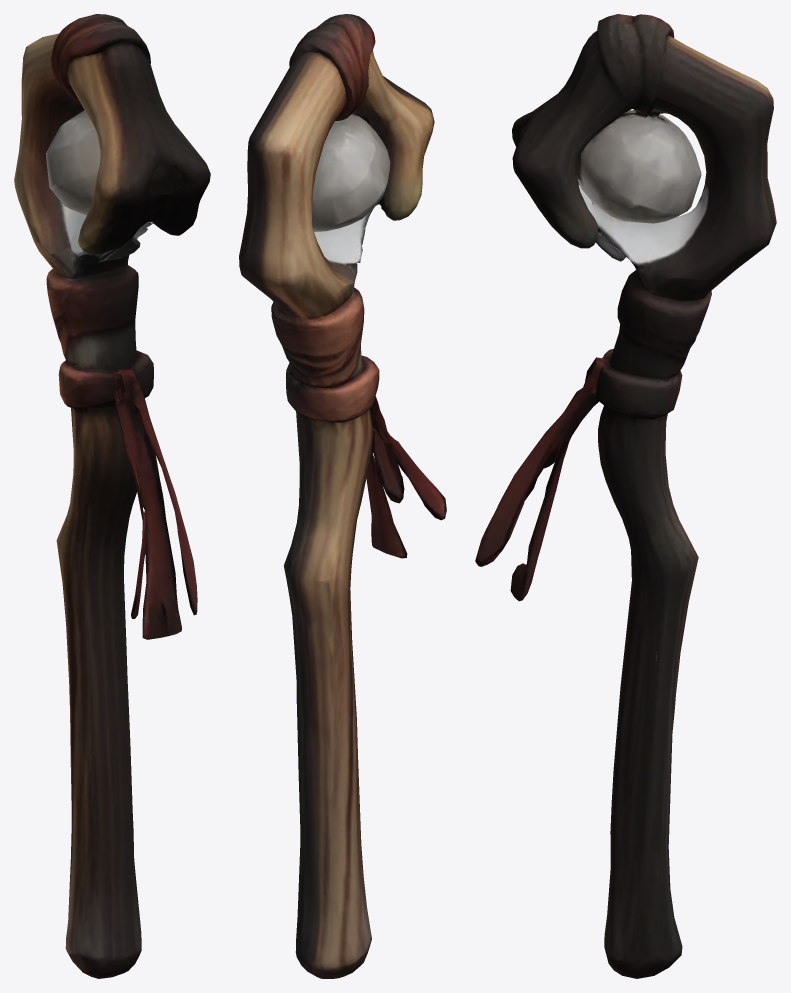
Rendered from apprentice_staff.glb.
The picture shows the model from 3 angles, left to right: view 1: azimuth 30°, elevation 25°; view 2: azimuth 150°, elevation 25°; view 3: azimuth 270°, elevation 25°; orthographic projection.
Visible parts, largest first — view 1: world; view 2: world; view 3: world.
Boxes of the visible parts, box(x1,y1,x2,y2) form: world: box(14, 14, 210, 978); world: box(239, 14, 446, 978); world: box(475, 14, 776, 978).
Bounding box in the file's own units: 0.2079 × 1.7 × 0.4863.
1 material, 1 textured.
